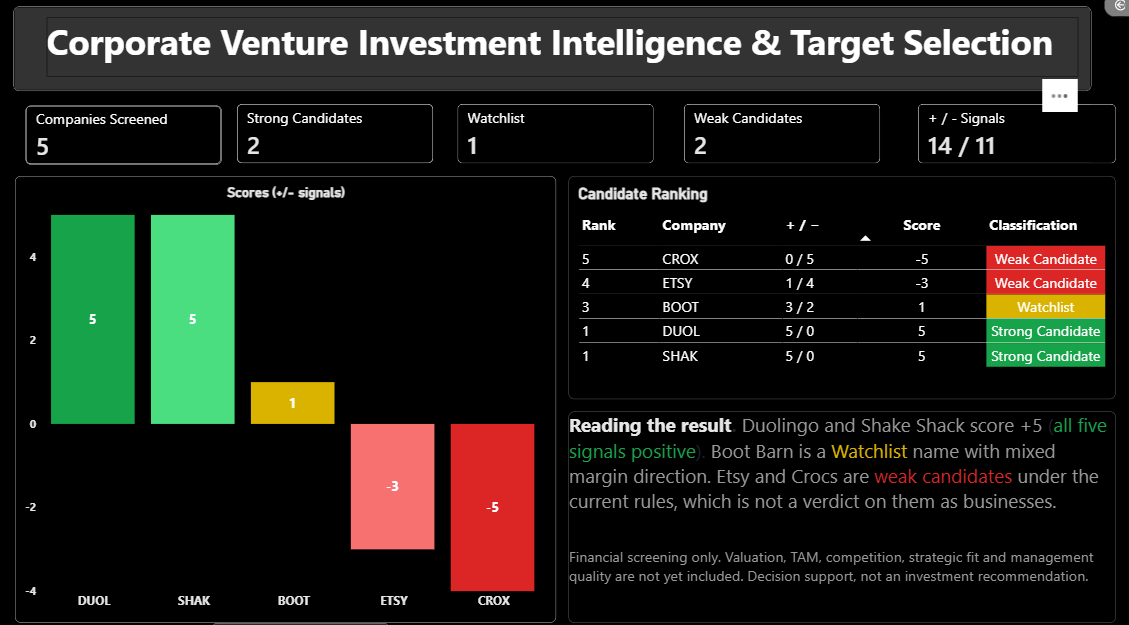

What the dashboard file says about the page in this screenshot:
{"tool":"powerbi","page":{"name":"Executive Overview","canvas":[1920,1080],"ordinal":0},"visuals":[{"type":"cardVisual","title":"Companies Screened","fields":{"Data":["Count(investment_intelligence investment_screening.company)"]},"box":[44,190.7,331.4,100],"z":0},{"type":"cardVisual","title":"Strong Candidate","fields":{"Data":["investment_intelligence investment_screening.Strong Candidates"]},"box":[400,188.6,331.4,100],"z":1000},{"type":"cardVisual","fields":{"Data":["investment_intelligence investment_screening.Watchlist"]},"box":[771.4,188.6,331.4,100],"z":2000},{"type":"cardVisual","fields":{"Data":["investment_intelligence investment_screening.Weak Candidates"]},"box":[1154.3,188.6,331.4,100],"z":3000},{"type":"cardVisual","fields":{"Data":["investment_intelligence investment_screening.Positive / Negative Signals"]},"box":[1549,188.5,334.3,100],"z":4000},{"type":"clusteredColumnChart","title":"Scores (+/- signals)","fields":{"Category":["investment_intelligence investment_screening.company"],"Y":["Sum(investment_intelligence investment_screening.Net Score)"]},"box":[25,308.9,913.1,754.1],"z":5000},{"type":"tableEx","title":"Candidate Ranking","fields":{"Values":["investment_intelligence investment_screening.Rank","investment_intelligence investment_screening.company","investment_intelligence investment_screening.Positive / Negative Signals","Sum(investment_intelligence investment_screening.Net Score)","investment_intelligence investment_screening.Classification"]},"box":[960.5,308.8,923.7,376.8],"z":6000},{"type":"actionButton","box":[1862.5,0,56.6,40.4],"z":7000},{"type":"shape","box":[21.6,21.6,1819.4,142.9],"z":8000},{"type":"textbox","box":[78.2,40.4,1741.2,102.4],"z":9000},{"type":"shape","box":[960.5,705.5,923.7,357],"z":10000},{"type":"textbox","box":[960.8,706.6,924.1,356.9],"z":11000}]}

Visuals, with their boxes in screenshot pixels (x1, y1, x2, y2), scaled from the page's 1920x1080 canvas onto the 1129x625 screenshot:
"Companies Screened" cardVisual: <box>26,110,221,168</box>
"Strong Candidate" cardVisual: <box>235,109,430,167</box>
cardVisual - investment_intelligence investment_screening.Watchlist: <box>454,109,648,167</box>
cardVisual - investment_intelligence investment_screening.Weak Candidates: <box>679,109,874,167</box>
cardVisual - investment_intelligence investment_screening.Positive / Negative Signals: <box>911,109,1107,167</box>
"Scores (+/- signals)" clusteredColumnChart: <box>15,179,552,615</box>
"Candidate Ranking" tableEx: <box>565,179,1108,397</box>
actionButton: <box>1095,0,1128,23</box>
shape: <box>13,13,1083,95</box>
textbox: <box>46,23,1070,83</box>
shape: <box>565,408,1108,615</box>
textbox: <box>565,409,1108,615</box>
